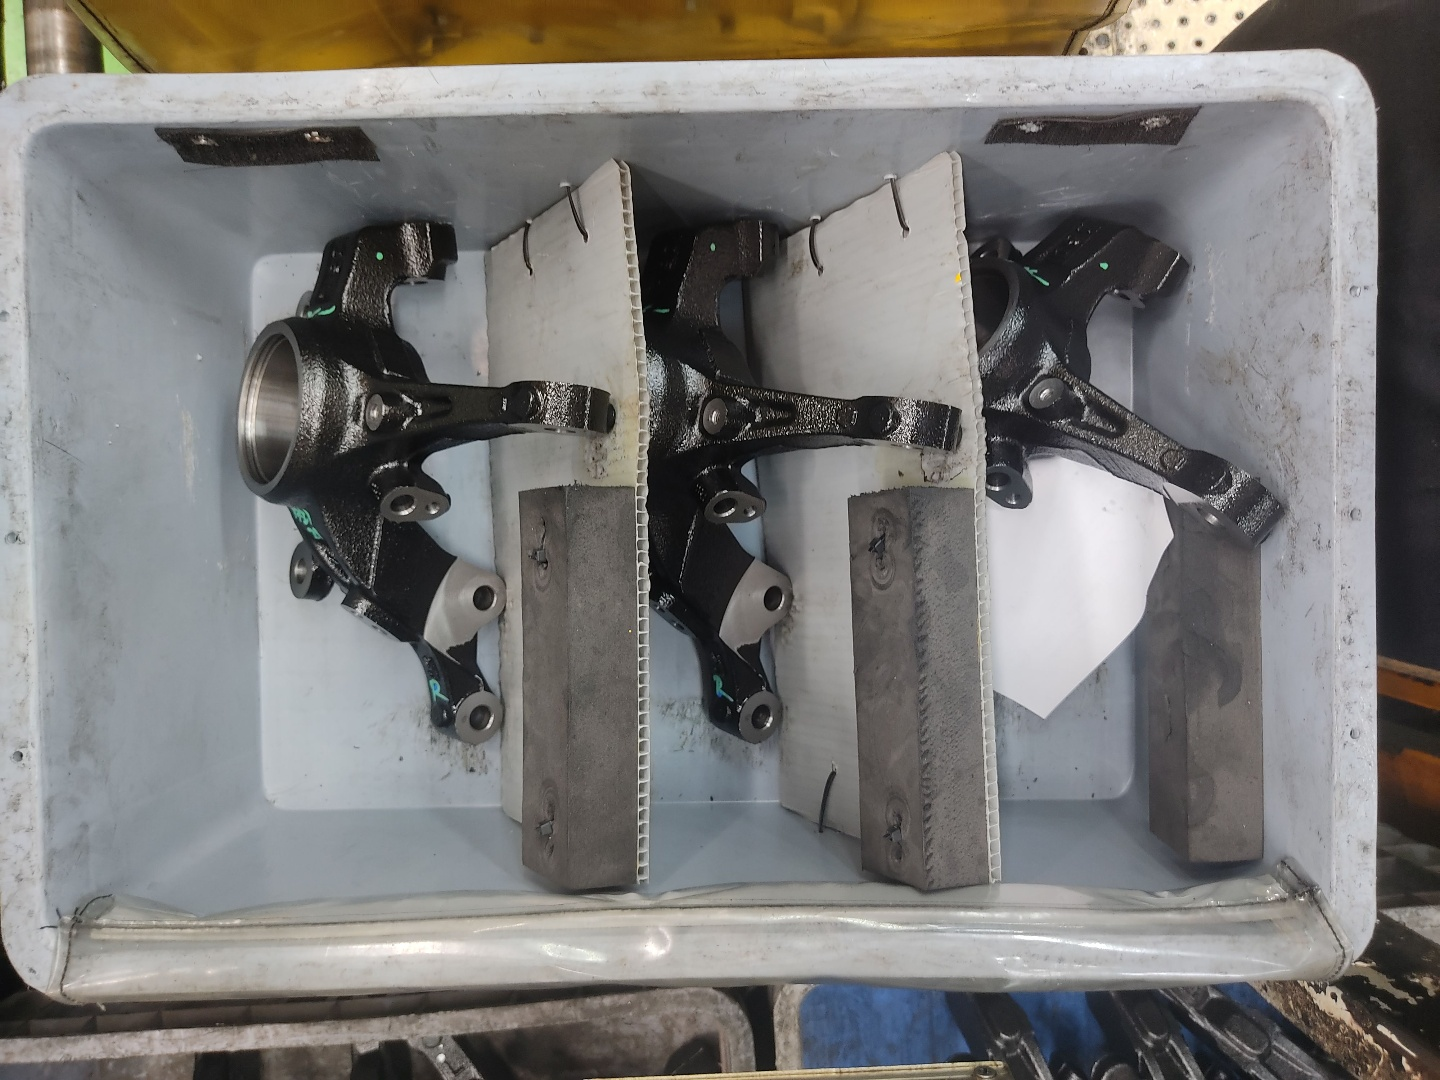abs-lh: (968, 196, 1290, 757)
abs-rh: (225, 206, 621, 753), (628, 202, 969, 757)
